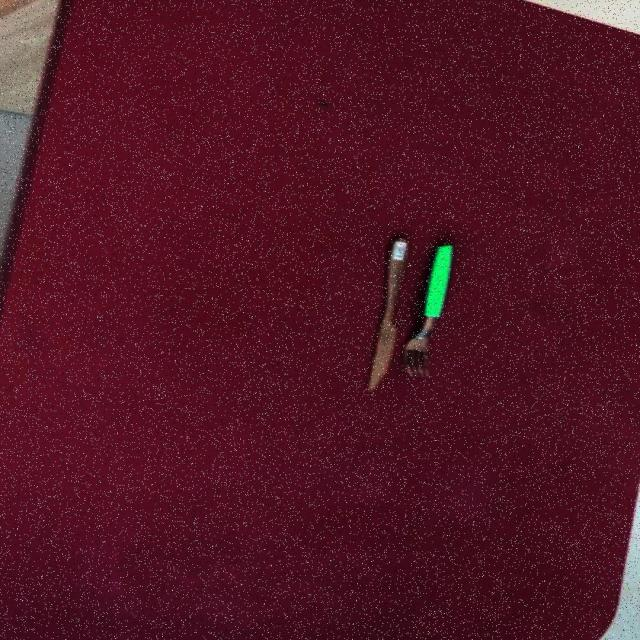Fork: (400, 242, 453, 378)
Knife: (364, 234, 408, 392)
